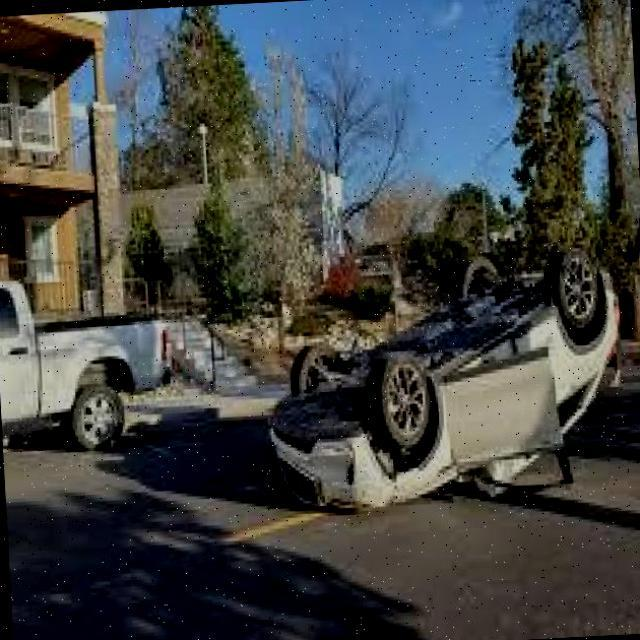accident: (256, 236, 631, 523)
